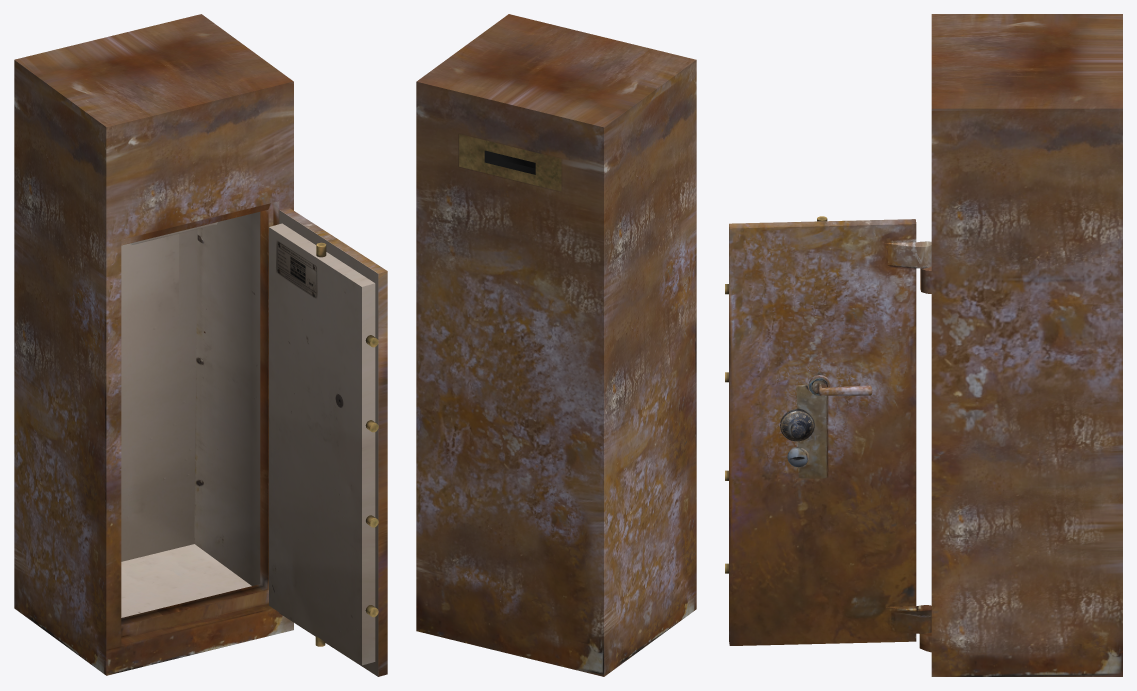
Rendered from sejfblend.fbx.
3 views of the same model, side by side, from view 1: azimuth 30°, elevation 25°; view 2: azimuth 150°, elevation 25°; view 3: azimuth 270°, elevation 25° (orthographic). The views are drawn at different scales.
Visible parts, largest first — view 1: body, Door, lockSystem; view 2: body; view 3: body, Door, lockModul, Handle.
Part boxes in pixels (x1,y1,x2,y2): body: (14, 14, 293, 675); Door: (269, 207, 387, 676); lockSystem: (315, 242, 378, 646); body: (416, 14, 696, 676); body: (919, 14, 1122, 676); Door: (729, 219, 931, 645); lockModul: (780, 410, 814, 441); Handle: (812, 379, 872, 395).
Size of the model in its own units: 480 by 1283 by 814.
1 material, 1 textured.
